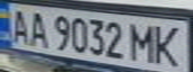0: (66, 15, 90, 54)
2: (103, 18, 130, 61)
3: (87, 16, 109, 57)
9: (48, 12, 72, 52)
A: (3, 4, 33, 45), (24, 8, 51, 47)
K: (151, 22, 187, 69)
M: (127, 20, 160, 64)
